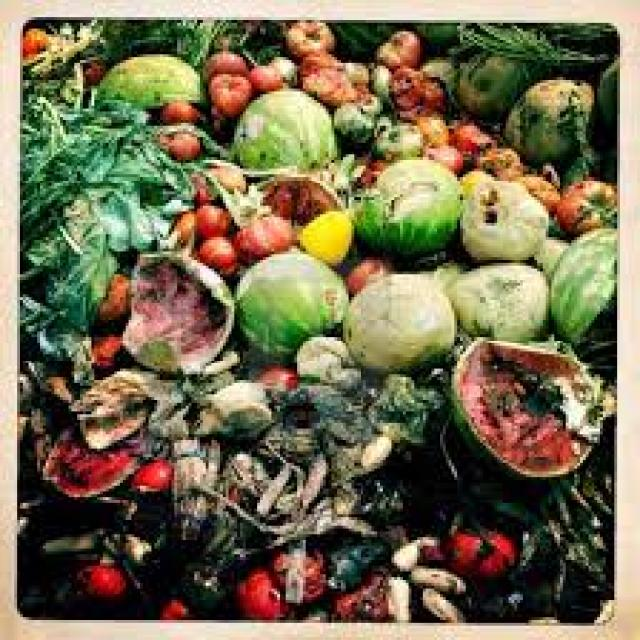organic waste: (17, 14, 614, 623), (17, 92, 92, 414), (446, 334, 611, 477), (517, 417, 612, 623), (92, 97, 188, 292), (117, 248, 232, 368), (231, 246, 343, 360), (337, 266, 452, 366), (351, 152, 460, 255), (497, 74, 603, 174), (209, 480, 377, 540), (68, 363, 183, 446), (348, 372, 443, 468), (232, 86, 337, 171), (448, 257, 548, 340), (443, 420, 523, 523), (40, 414, 140, 494), (457, 177, 549, 260), (549, 226, 614, 340), (451, 20, 603, 66), (266, 374, 363, 446), (57, 17, 243, 54), (174, 534, 257, 614), (91, 51, 200, 106), (454, 49, 534, 117), (35, 520, 152, 566), (237, 434, 297, 514), (192, 377, 268, 437), (569, 294, 614, 383), (257, 174, 334, 226), (400, 446, 446, 531), (446, 523, 514, 580), (294, 334, 357, 392), (266, 543, 326, 600), (234, 560, 294, 617), (332, 423, 392, 480), (554, 174, 614, 229), (323, 534, 383, 589), (283, 440, 328, 511), (172, 346, 234, 397), (331, 560, 386, 617), (297, 206, 352, 263), (234, 211, 294, 260), (328, 20, 392, 63), (297, 60, 354, 103), (217, 443, 263, 491), (68, 557, 123, 597), (369, 114, 420, 157), (280, 20, 331, 60), (206, 69, 251, 114), (517, 20, 617, 40), (594, 48, 617, 132), (512, 168, 554, 212), (403, 23, 457, 57), (197, 37, 246, 74), (372, 26, 417, 66), (406, 563, 466, 591), (386, 531, 434, 566), (386, 63, 423, 108), (94, 269, 126, 320), (448, 120, 492, 157), (346, 257, 391, 292), (474, 143, 520, 177), (332, 97, 368, 140), (328, 148, 366, 188), (566, 149, 614, 180), (192, 200, 232, 237), (123, 454, 168, 486), (166, 452, 206, 488), (232, 17, 277, 49), (417, 586, 463, 617), (192, 234, 232, 269), (248, 360, 292, 391), (154, 129, 200, 157), (420, 143, 457, 177), (206, 160, 243, 191), (351, 154, 386, 186), (337, 57, 369, 92), (294, 49, 332, 77), (20, 20, 51, 54), (166, 206, 194, 243), (534, 234, 566, 266), (246, 60, 283, 86), (386, 574, 408, 617), (157, 97, 197, 120), (420, 117, 446, 152), (354, 86, 383, 117), (288, 603, 332, 623), (366, 63, 388, 103), (157, 592, 192, 617), (417, 77, 443, 109), (77, 54, 103, 86), (91, 329, 120, 357), (457, 169, 489, 194), (392, 106, 437, 123), (420, 57, 449, 80), (268, 52, 292, 77), (537, 163, 560, 186), (192, 177, 212, 203), (417, 543, 443, 557)
